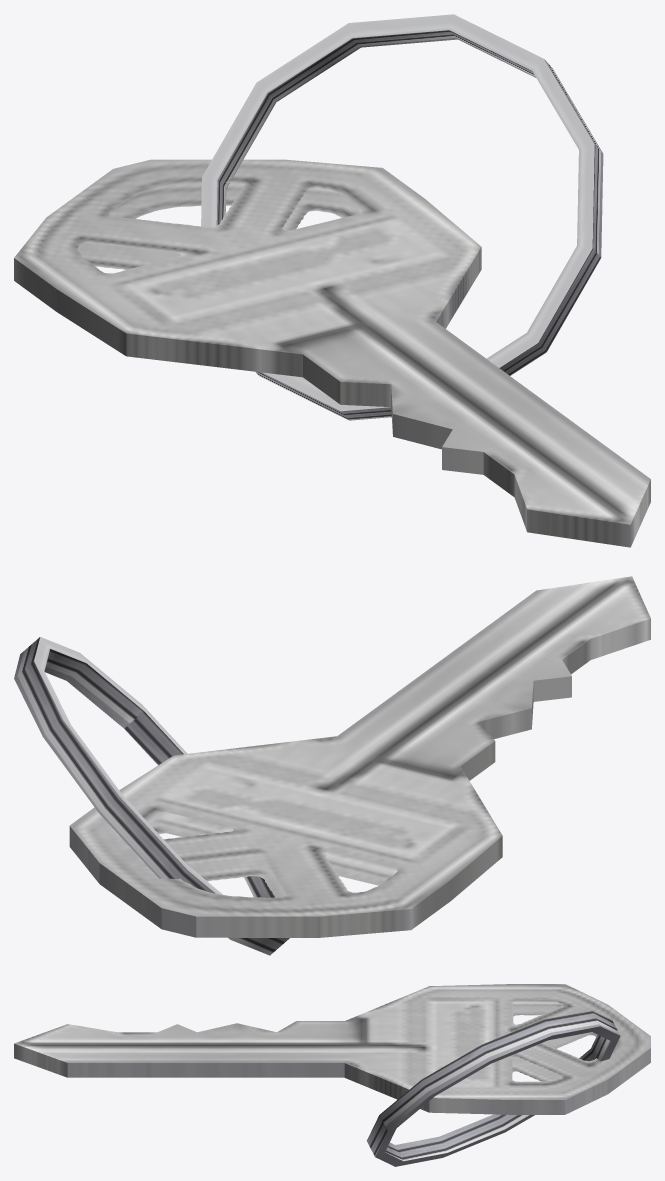
Rendered from key_house.fbx.
3 renders of one model, top to bottom at view 1: azimuth 30°, elevation 25°; view 2: azimuth 150°, elevation 25°; view 3: azimuth 270°, elevation 25°, orthographic. The views are drawn at different scales.
Parts seen in each view (by area): view 1: key_house.002; view 2: key_house.002; view 3: key_house.002.
Part boxes in pixels (x1,y1,x2,y2): key_house.002: (14, 14, 650, 547); key_house.002: (14, 576, 650, 955); key_house.002: (14, 984, 650, 1166).
Bounding box in the file's own units: 11.05 × 6.64 × 19.53.
1 material, 1 textured.
